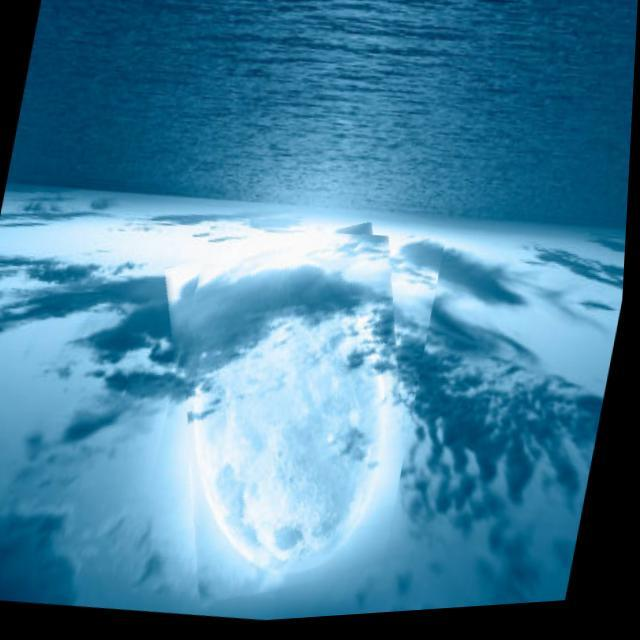moon: (131, 210, 450, 626)
